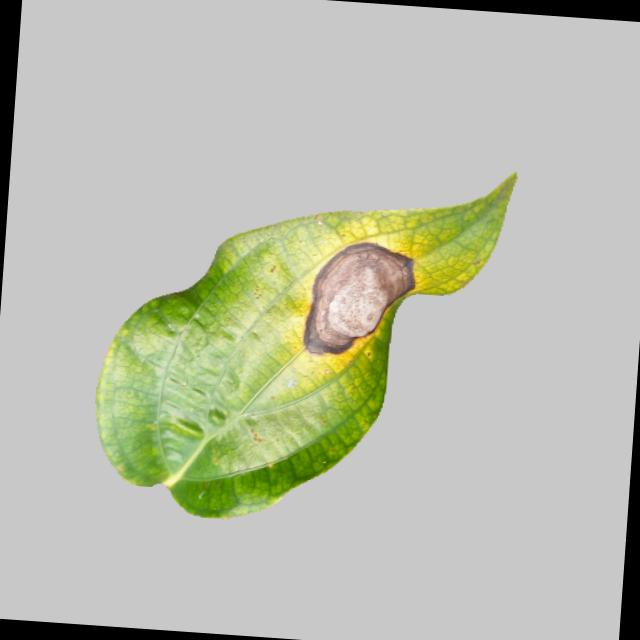leaf-blight: (77, 140, 518, 542)
